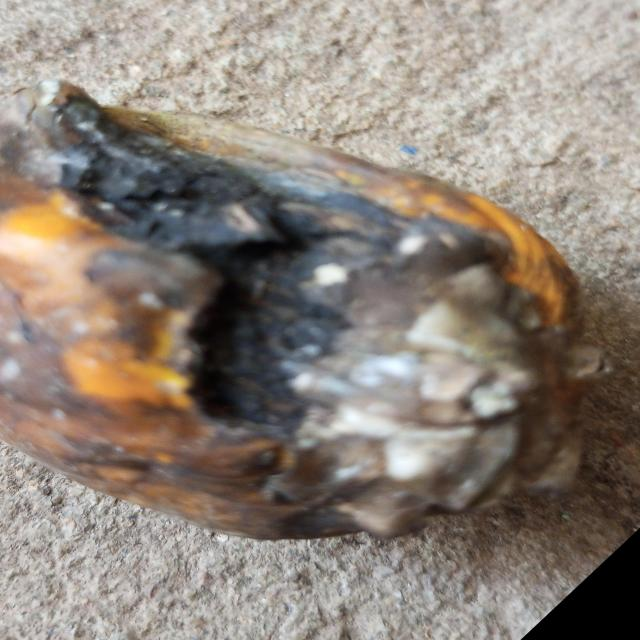damaged: (0, 80, 606, 539)
